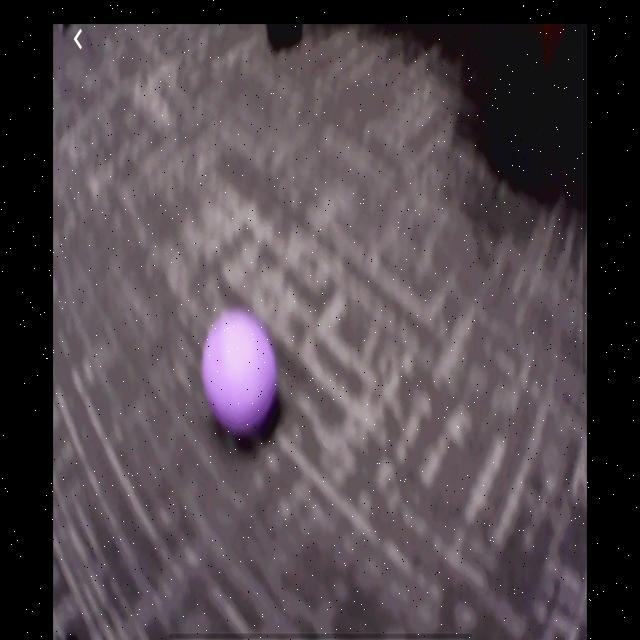ball: (201, 308, 280, 440)
